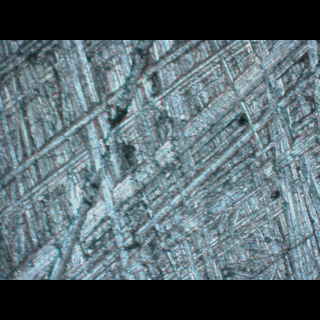d: (0, 39, 268, 275)
